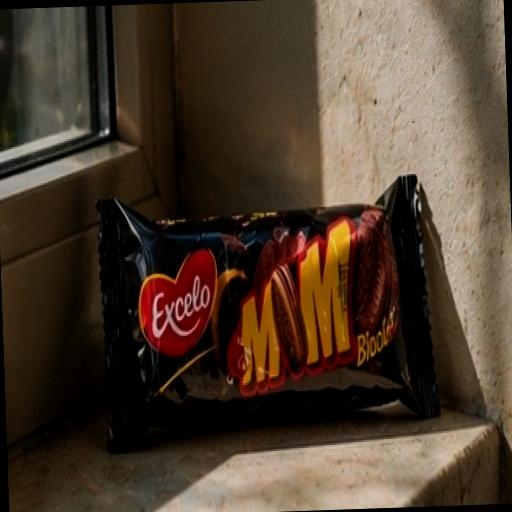MOMO: (62, 112, 486, 476)
